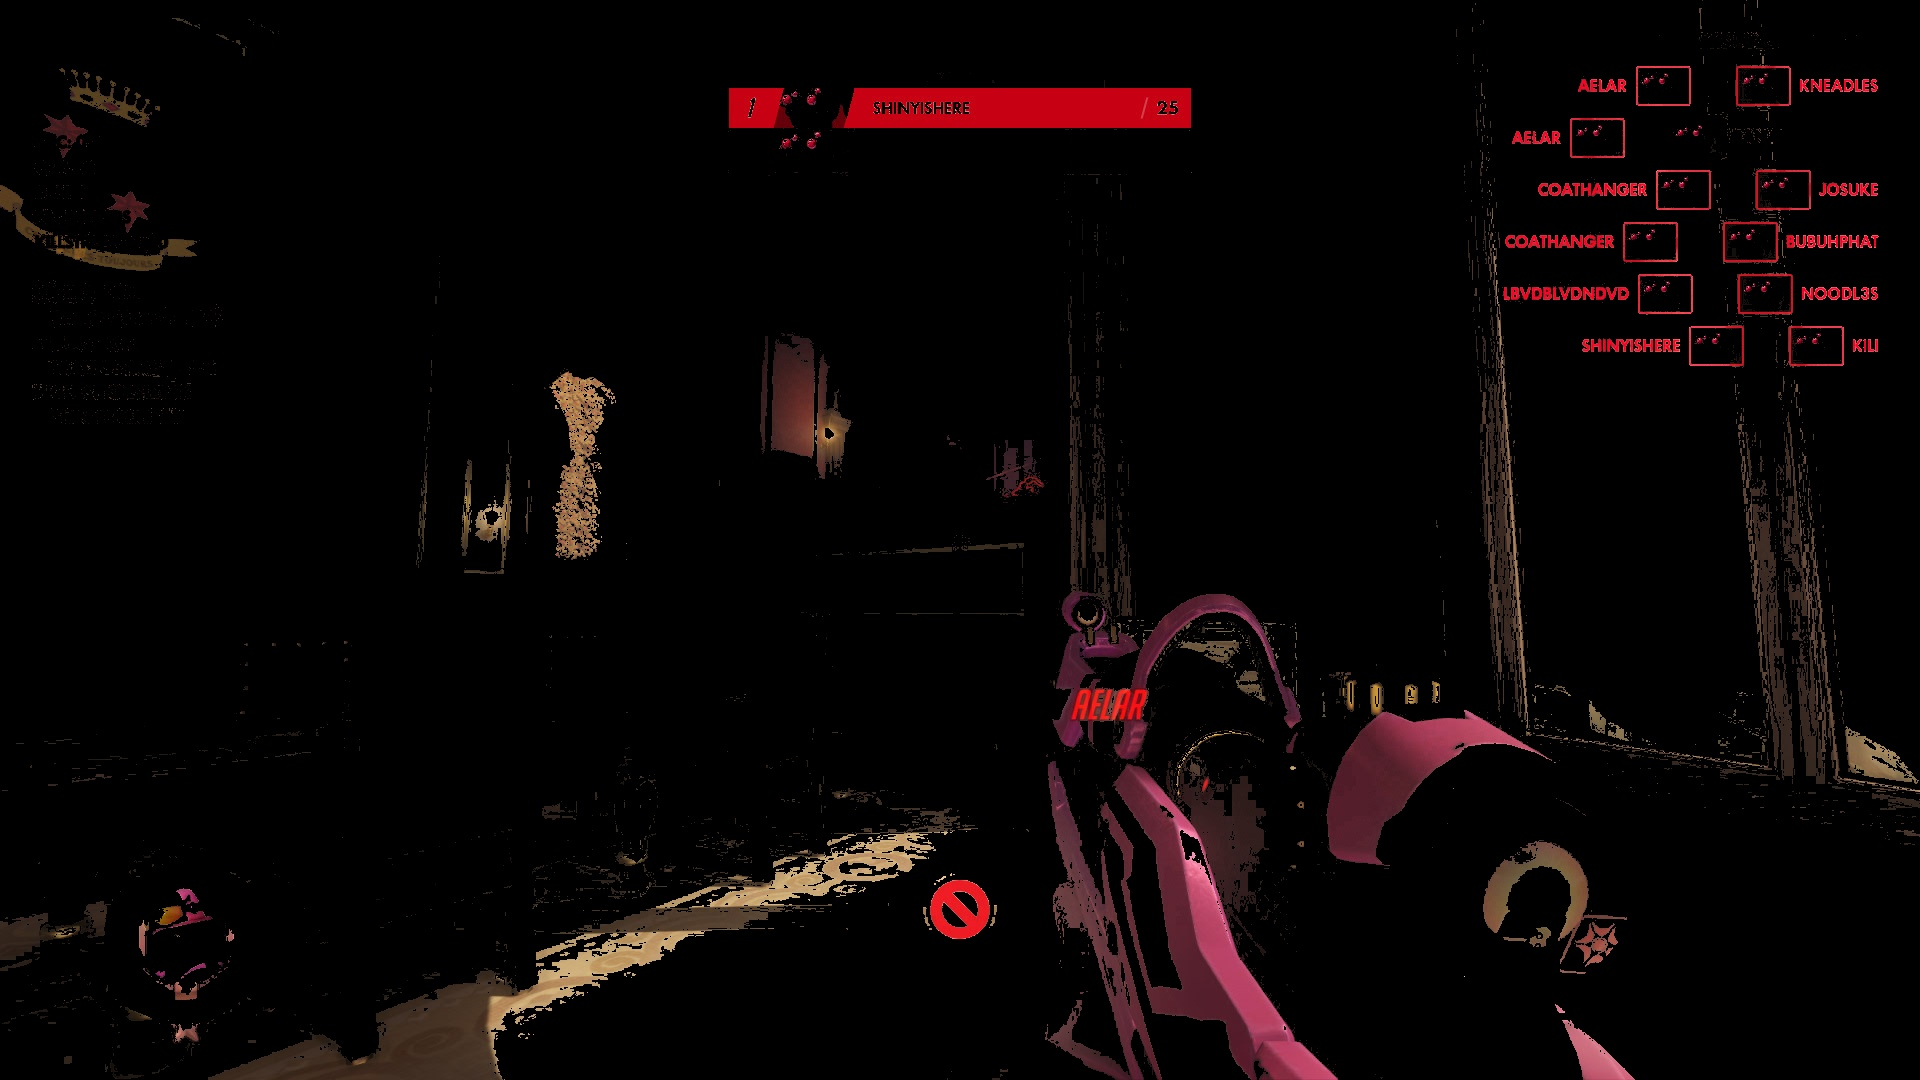widowmaker: (1014, 481, 1035, 498)
